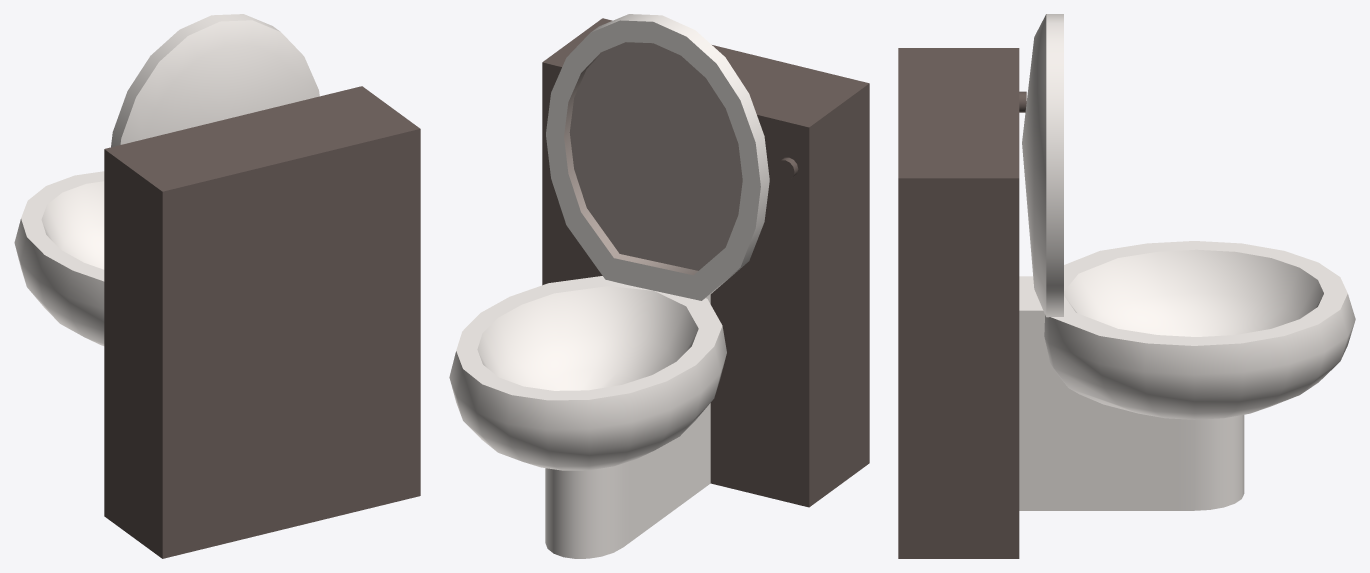
File: Toilet.fbx
3 views of the same model, side by side, from view 1: azimuth 30°, elevation 25°; view 2: azimuth 150°, elevation 25°; view 3: azimuth 270°, elevation 25° (orthographic). The views are drawn at different scales.
Visible parts, largest first — view 1: Toilet; view 2: Toilet; view 3: Toilet.
Part boxes in pixels (x1,y1,x2,y2): Toilet: [14, 14, 420, 558]; Toilet: [449, 14, 869, 558]; Toilet: [898, 14, 1355, 558].
Bounding box in the file's own units: 72.78 × 108 × 122.
